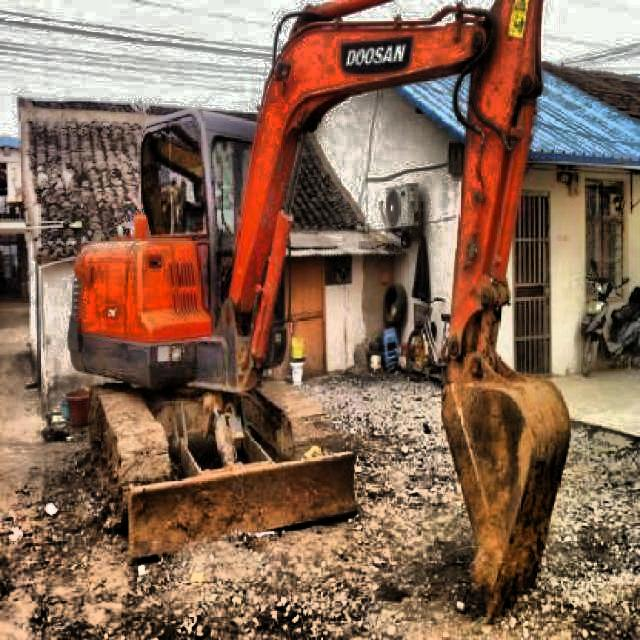excavator: (70, 0, 572, 631)
